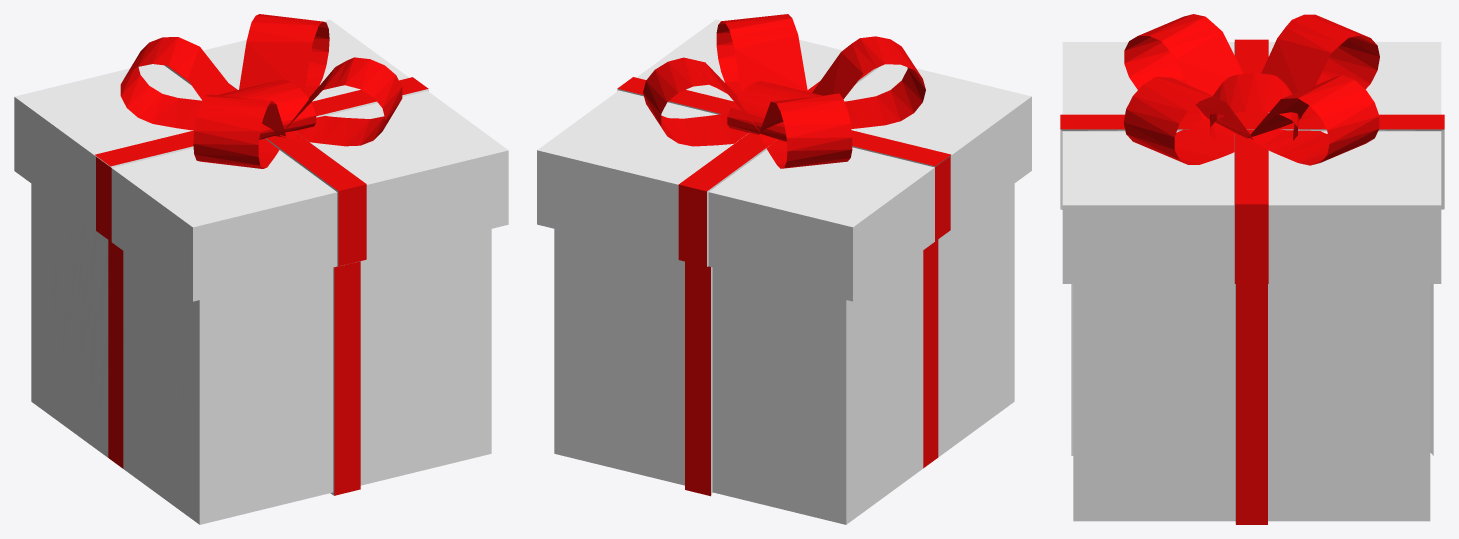
File: Regalo.fbx
3 renders of one model, left to right at view 1: azimuth 30°, elevation 25°; view 2: azimuth 150°, elevation 25°; view 3: azimuth 270°, elevation 25°, orthographic. The views are drawn at different scales.
Visible parts, largest first — view 1: Regalo; view 2: Regalo; view 3: Regalo.
Boxes of the visible parts, left/top/right/bottom form: Regalo: left=14, top=14, right=508, bottom=524; Regalo: left=537, top=14, right=1031, bottom=524; Regalo: left=1060, top=14, right=1444, bottom=524.
Size of the model in its own units: 2.18 by 2.42 by 2.15.
Materials: 1 (1 with a texture image).
